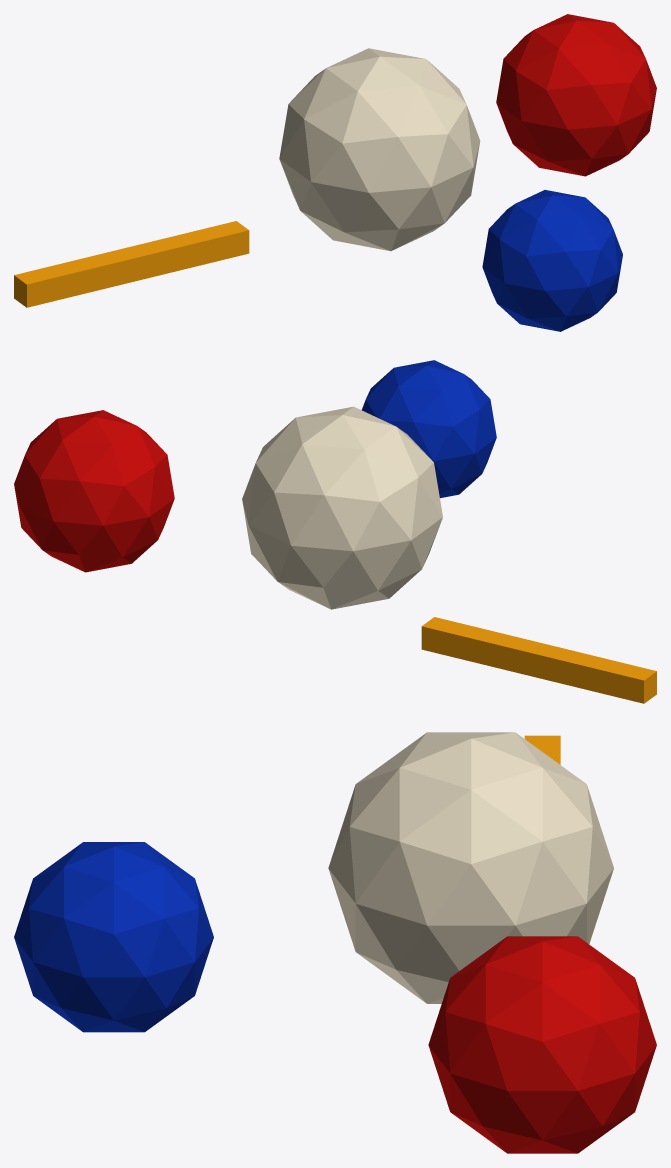
Rendered from soccer_ball_toys.obj.
The picture shows the model from 3 angles, top to bottom: view 1: azimuth 30°, elevation 25°; view 2: azimuth 150°, elevation 25°; view 3: azimuth 270°, elevation 25°; orthographic projection. The views are drawn at different scales.
Visible parts, largest first — view 1: soccer_ball_toys; view 2: soccer_ball_toys; view 3: soccer_ball_toys.
Boxes of the visible parts, x1=… form: soccer_ball_toys: x1=14, y1=14, x2=656, y2=331; soccer_ball_toys: x1=14, y1=360, x2=656, y2=703; soccer_ball_toys: x1=14, y1=732, x2=656, y2=1153.
Bounding box in the file's own units: 1.4 × 0.4 × 0.9.
